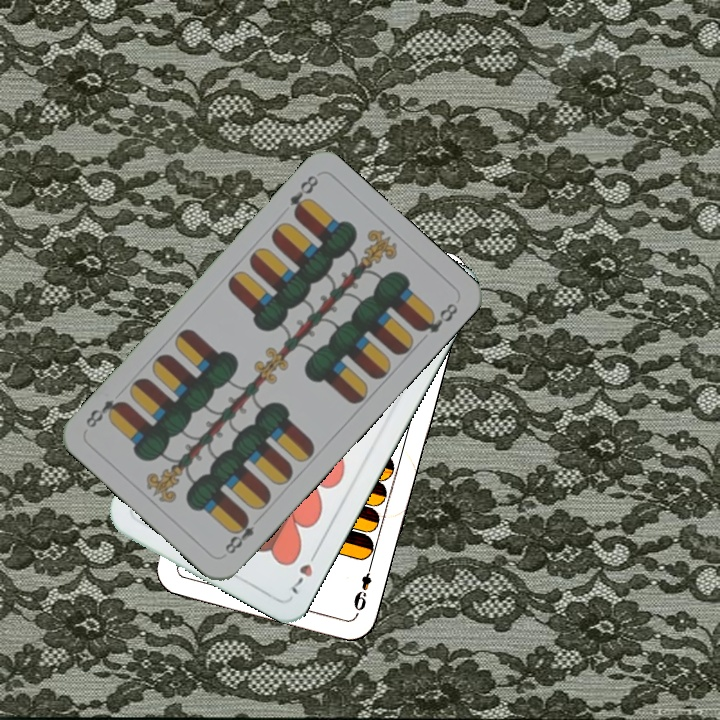E8: (285, 171, 321, 220), (220, 511, 257, 557)
E9: (349, 558, 376, 616)
H7: (287, 545, 322, 597)
